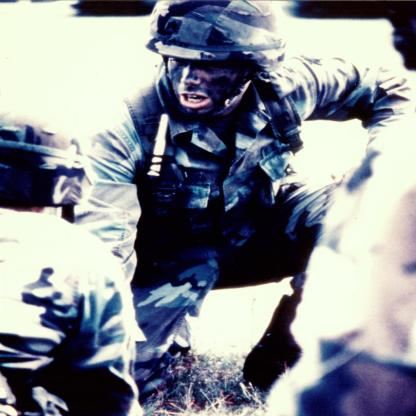Helmet: (146, 5, 292, 117)
